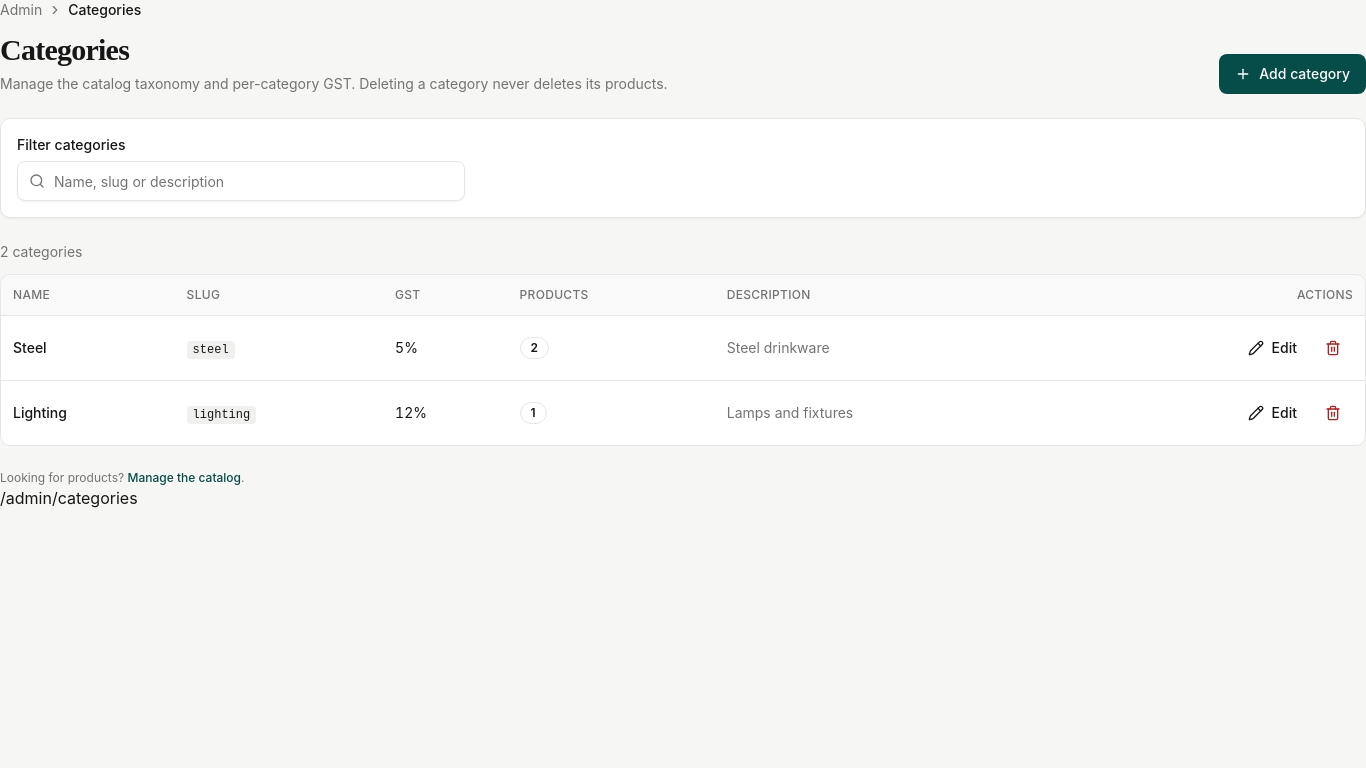
Test: AdminCategoriesPage › edits an existing category and sends the current slug
Click the button "Edit" in the row of "5%" at (1272, 348), box [1236,330,1309,366]
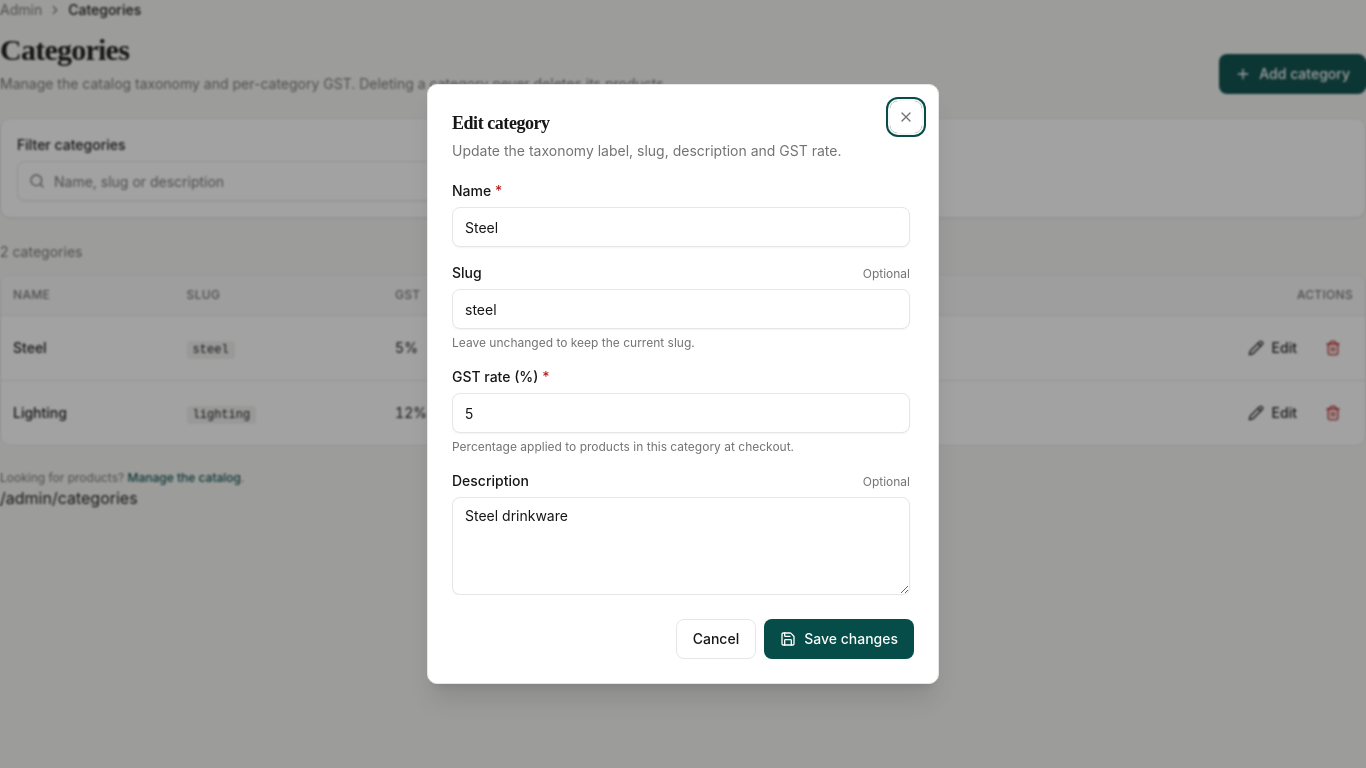
Expected: the heading "Edit category" is shown, [452,113,550,133]
Replace the text in the field labelled "Name *" with "Steelware" at (681, 227), box [452,207,910,247]
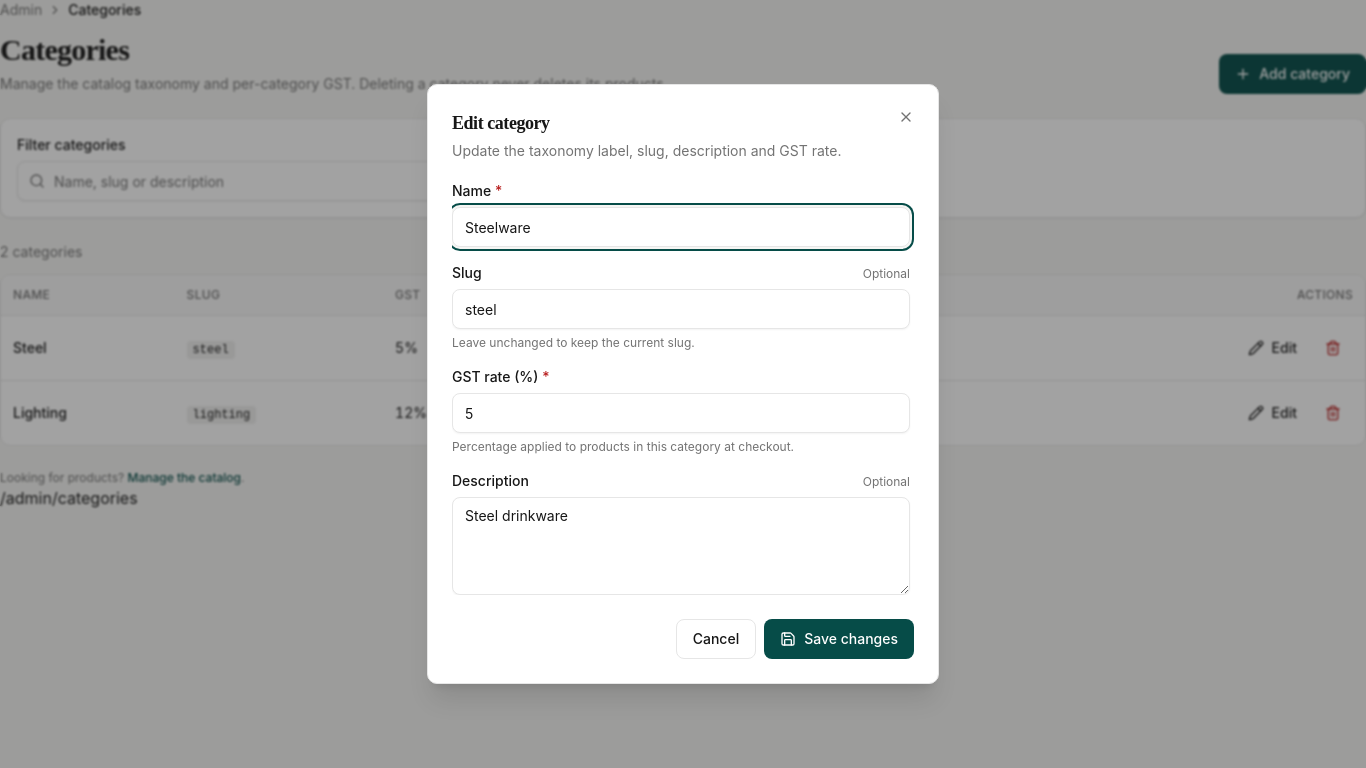
Click the button "Save changes" at (839, 639), box [764,619,914,659]
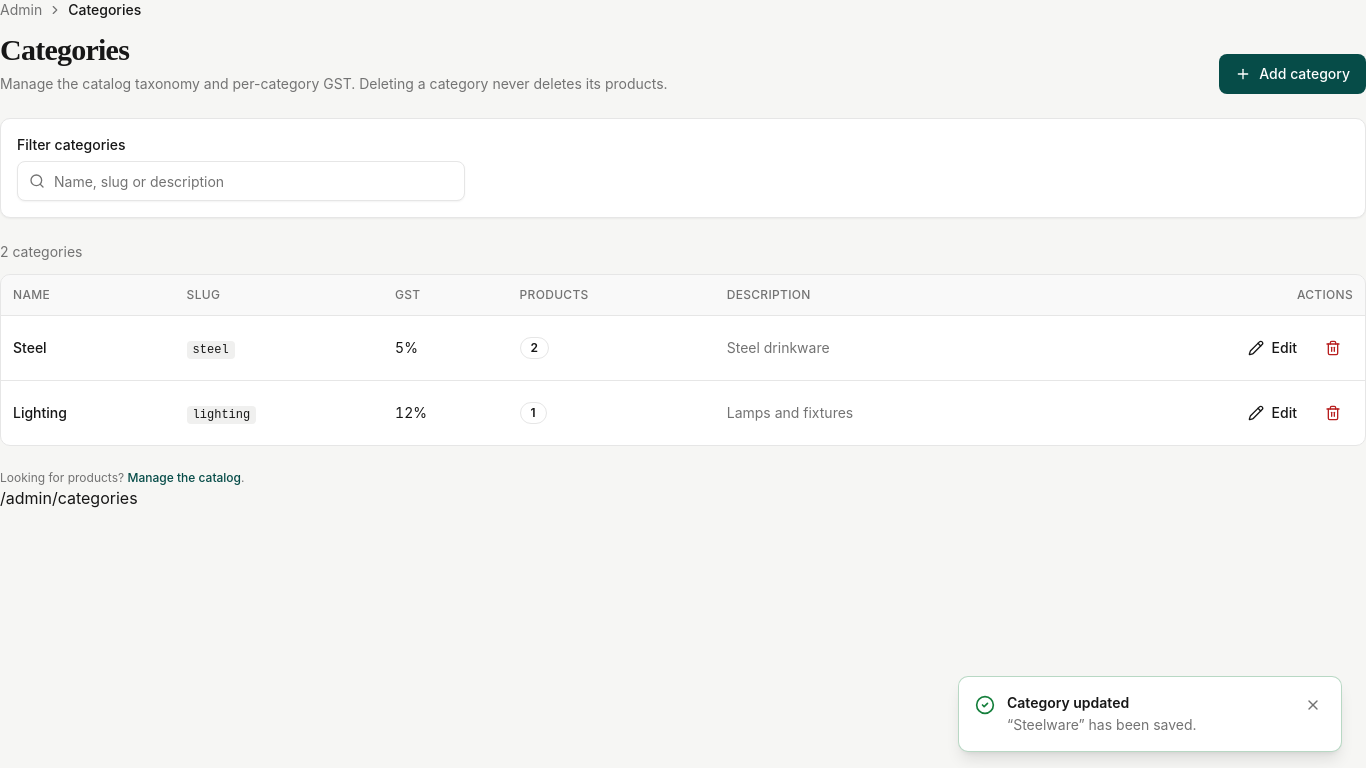
Expected: the text "Category updated" is shown, [1007,694,1129,711]
